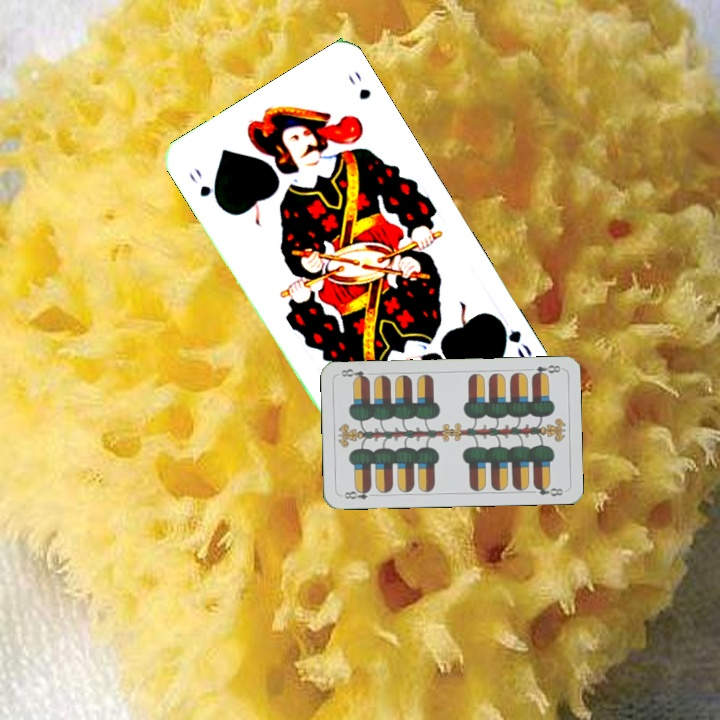E8: (340, 485, 378, 502), (528, 361, 563, 379)
GO: (491, 313, 535, 363), (185, 163, 224, 210)
